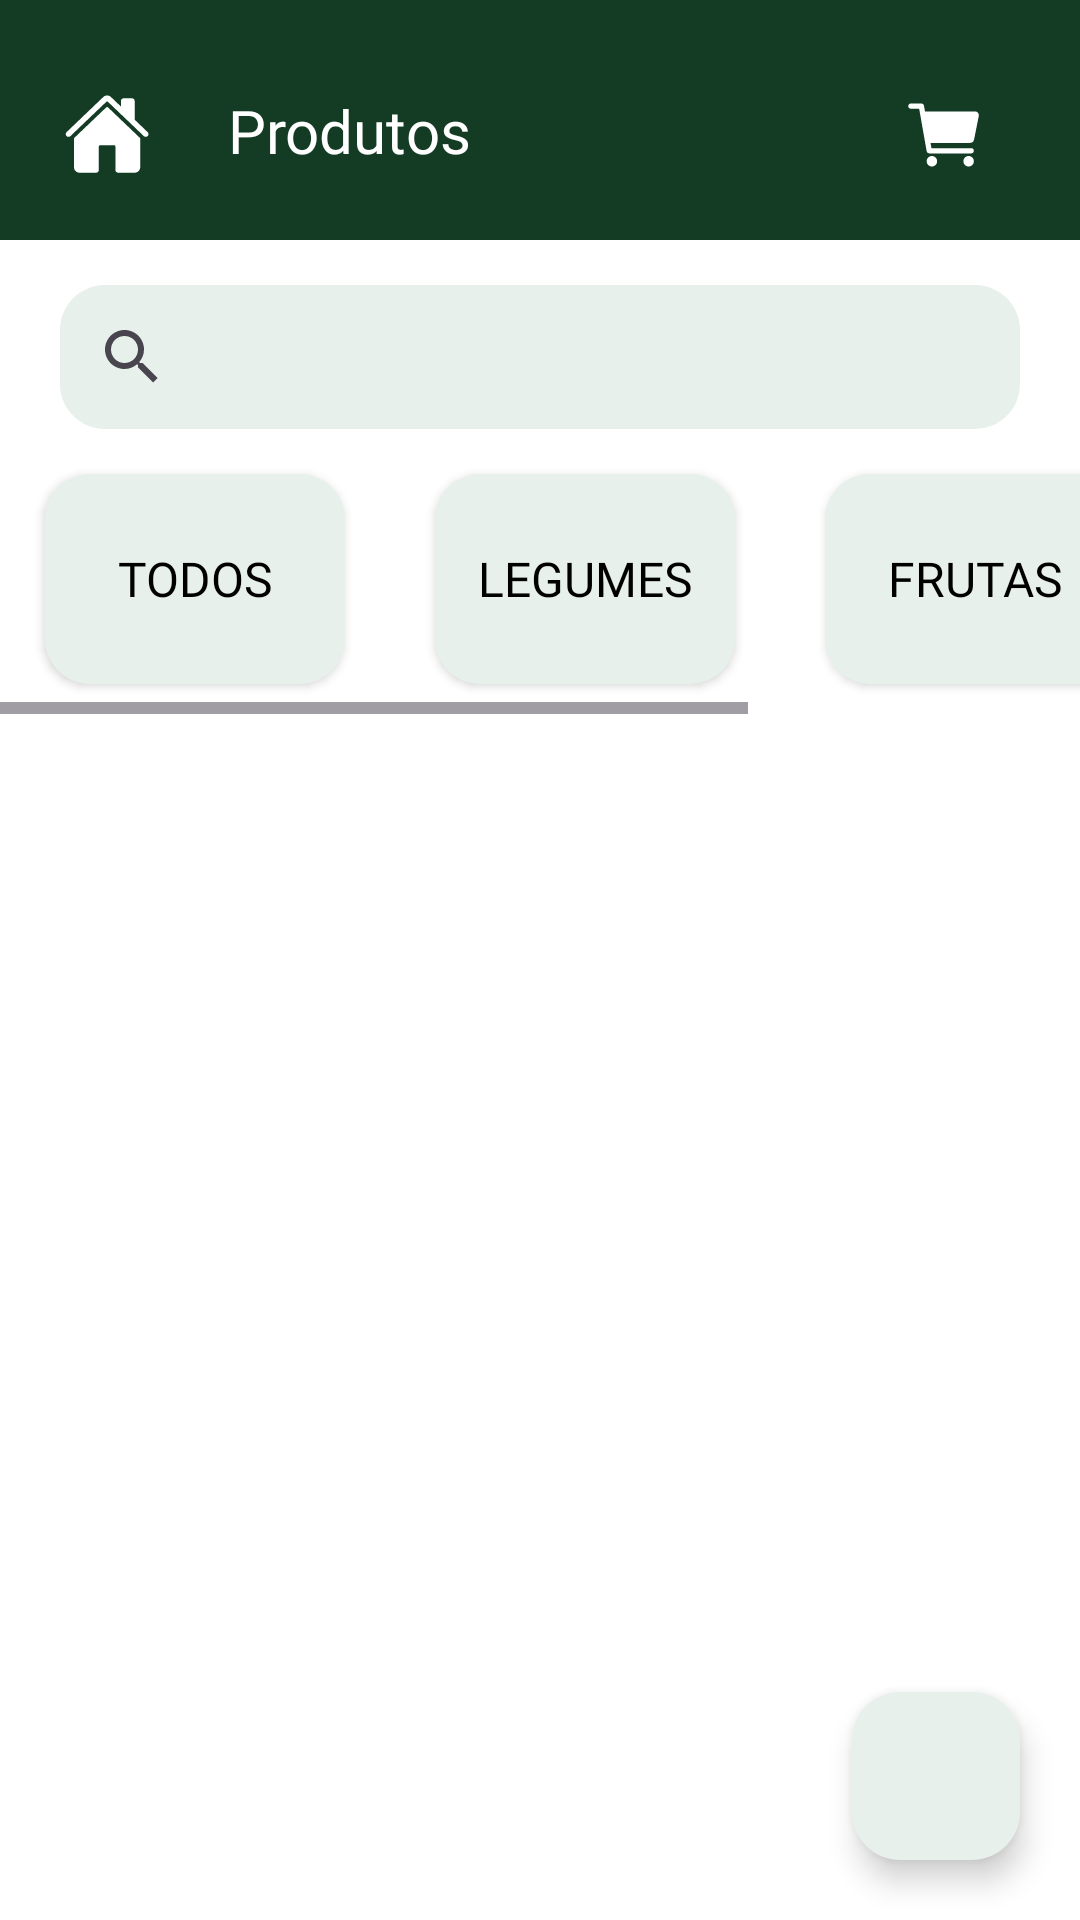

Icons on this 1080 × 1920 Android screen, each with the point to tap as (x,y):
botao para acessar carrinho: (943,135)
home: (107,134)
